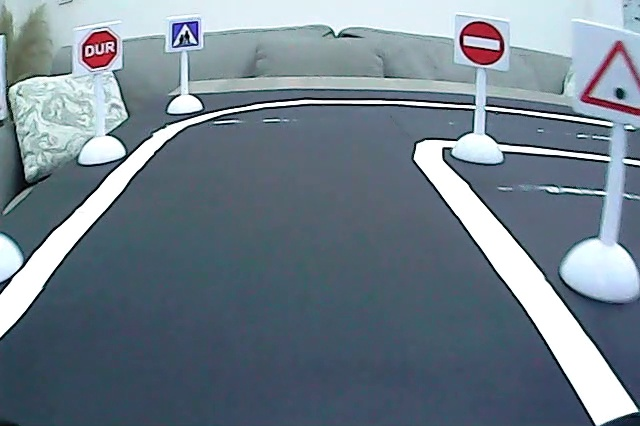do not enter: (456, 16, 505, 68)
green light: (578, 36, 640, 121)
school crossing: (169, 19, 201, 49)
stop sign: (78, 27, 120, 71)
